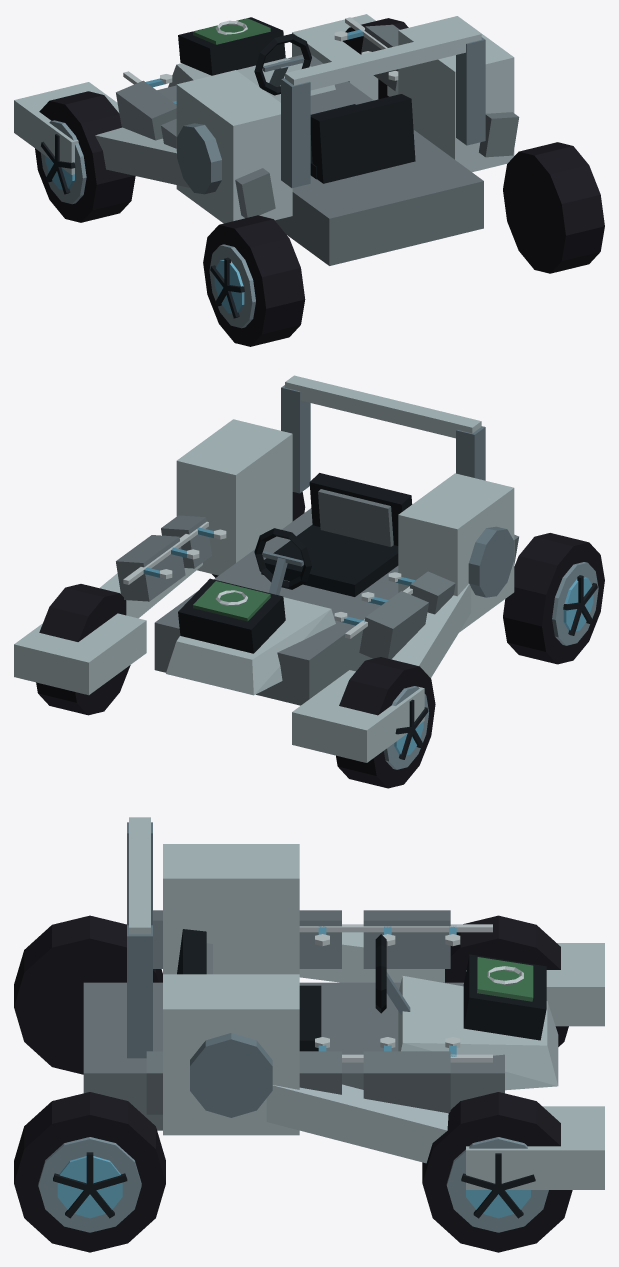
File: kart.glb
The picture shows the model from 3 angles, top to bottom: view 1: azimuth 30°, elevation 25°; view 2: azimuth 150°, elevation 25°; view 3: azimuth 270°, elevation 25°; orthographic projection. The views are drawn at different scales.
Parts seen in each view (by area): view 1: identity-mech-mech-articulated-limbs-and-open-harness, wheel-rear-left, wheel-rear-right, identity-mech-driver-cockpit, wheel-front-left, identity-mech-motif-armor, identity-mech-motif-scanner, identity-mech-motif-circuit, wheel-front-right; view 2: identity-mech-mech-articulated-limbs-and-open-harness, identity-mech-driver-cockpit, wheel-rear-left, identity-mech-motif-armor, wheel-front-left, identity-mech-motif-scanner, wheel-front-right, identity-mech-motif-circuit; view 3: identity-mech-mech-articulated-limbs-and-open-harness, wheel-rear-right, wheel-front-right, identity-mech-motif-armor, wheel-rear-left, identity-mech-motif-scanner, wheel-front-left, identity-mech-driver-cockpit, identity-mech-motif-circuit.
Part boxes in pixels (bbox=[...]): identity-mech-mech-articulated-limbs-and-open-harness: bbox=[14, 14, 514, 265]; wheel-rear-left: bbox=[203, 215, 305, 346]; wheel-rear-right: bbox=[503, 142, 604, 273]; identity-mech-driver-cockpit: bbox=[254, 34, 415, 183]; wheel-front-left: bbox=[35, 91, 135, 222]; identity-mech-motif-armor: bbox=[116, 24, 519, 218]; identity-mech-motif-scanner: bbox=[178, 17, 285, 75]; identity-mech-motif-circuit: bbox=[123, 17, 398, 104]; wheel-front-right: bbox=[342, 18, 408, 99]; identity-mech-mech-articulated-limbs-and-open-harness: bbox=[14, 375, 514, 762]; identity-mech-driver-cockpit: bbox=[254, 473, 412, 596]; wheel-rear-left: bbox=[503, 533, 604, 664]; identity-mech-motif-armor: bbox=[116, 515, 518, 659]; wheel-front-left: bbox=[336, 657, 435, 788]; identity-mech-motif-scanner: bbox=[178, 578, 285, 653]; wheel-front-right: bbox=[36, 584, 130, 715]; identity-mech-motif-circuit: bbox=[123, 521, 415, 638]; identity-mech-mech-articulated-limbs-and-open-harness: bbox=[83, 817, 604, 1189]; wheel-rear-right: bbox=[14, 1092, 165, 1252]; wheel-front-right: bbox=[422, 1092, 572, 1252]; identity-mech-motif-armor: bbox=[146, 910, 450, 1114]; wheel-rear-left: bbox=[14, 915, 162, 1074]; identity-mech-motif-scanner: bbox=[463, 954, 546, 1040]; wheel-front-left: bbox=[445, 915, 568, 1046]; identity-mech-driver-cockpit: bbox=[177, 929, 410, 1051]; identity-mech-motif-circuit: bbox=[299, 924, 492, 1062].
Size of the model in its own units: 2.29 by 1.42 by 2.72.
